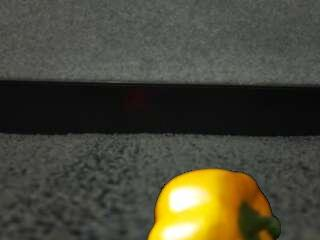Capsicum: (145, 163, 285, 240)
